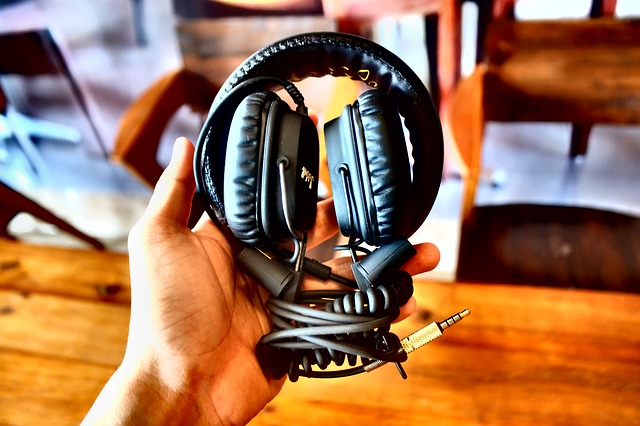headphones: (194, 32, 445, 298)
